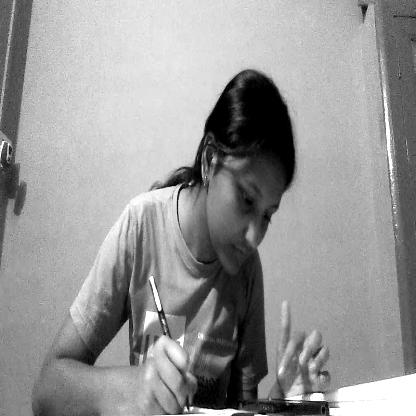Distracted: (204, 74, 293, 273)
